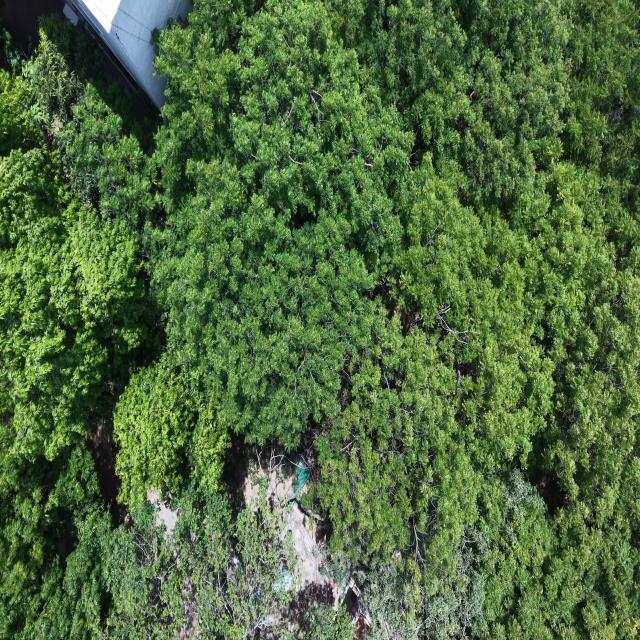ROOFTOP_BUILDING: (64, 0, 199, 127)
VEGETATION_TREE: (0, 0, 639, 639)
